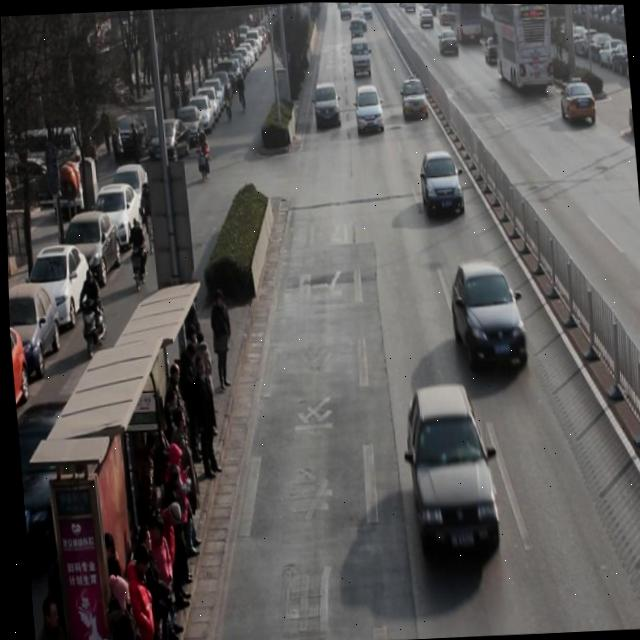car: (403, 383, 500, 560), (448, 257, 528, 375), (418, 148, 465, 218), (558, 77, 596, 127), (353, 83, 385, 132), (312, 81, 341, 131), (400, 76, 430, 120), (483, 33, 506, 67), (438, 27, 460, 56)
truck: (351, 35, 373, 76)
van: (490, 3, 555, 90)
